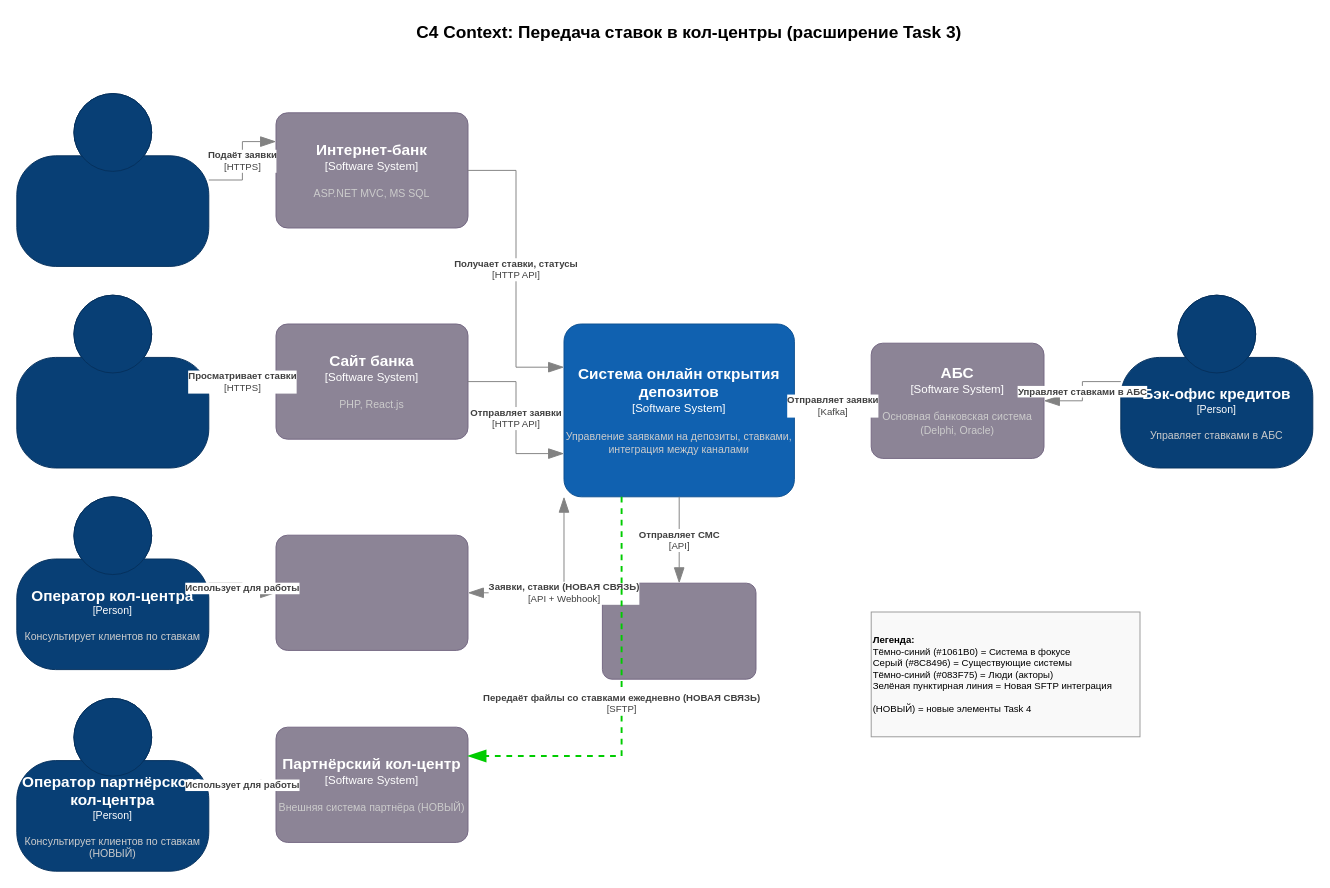
Image size: 1330x888. Some labels were removed from this diagram. The shapes that lost their labels are listed below. From the top down, each one's centre as x and y in pixels, then its label:
At point 112,179: "Клиент банка [Person] Авторизованный клиент".
At point 112,381: "Новый клиент [Person] Потенциальный клиент".
At point 371,592: "Система кол-центра [Software System] React, Spring Boot, PostgreSQL".
At point 678,630: "СМС-шлюз [Software System: External] Отправка СМС-уведомлений".
